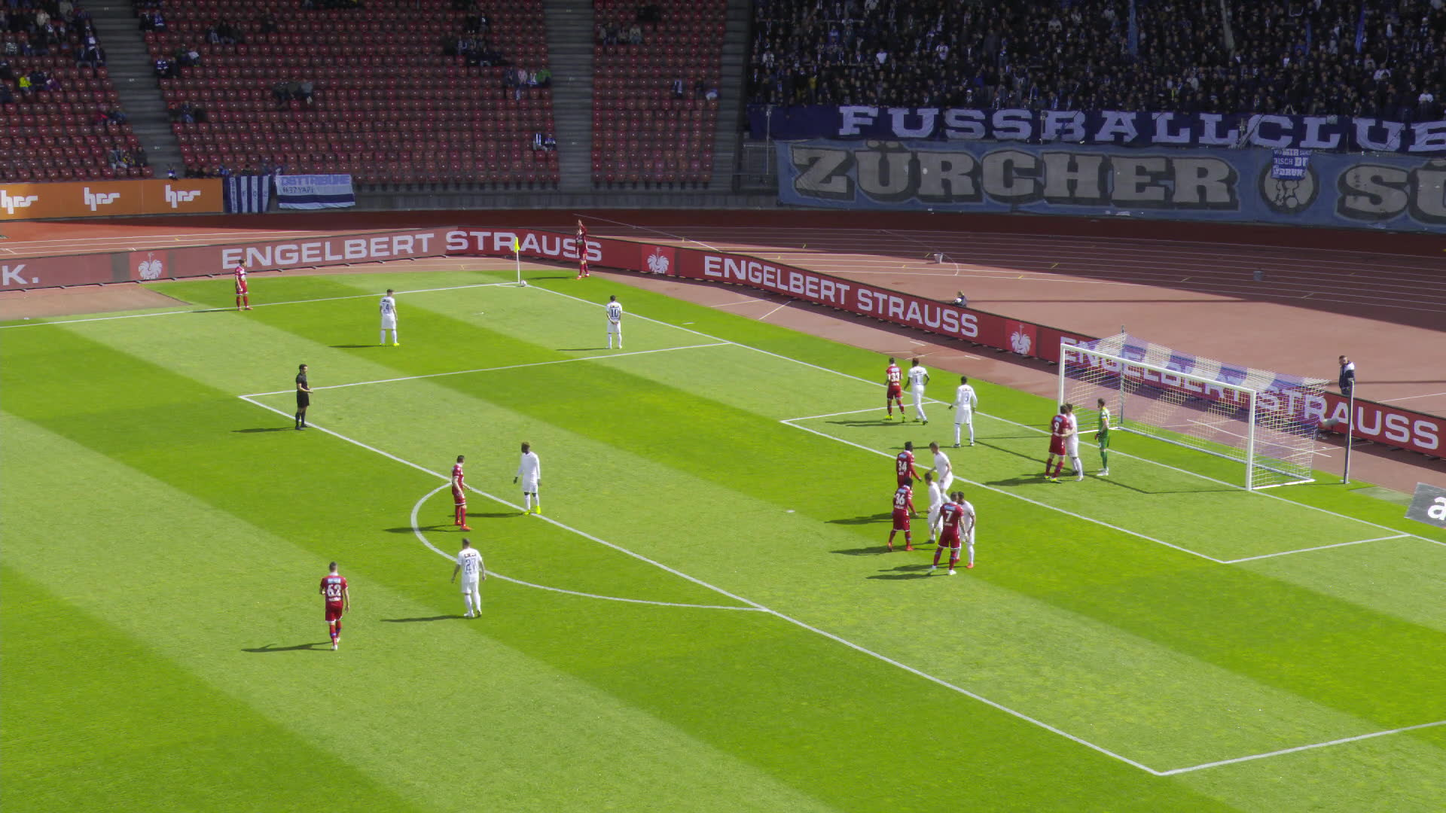ball: (517, 279, 526, 287)
player: (926, 492, 972, 575), (316, 559, 350, 648), (450, 539, 484, 620), (887, 478, 923, 552), (947, 375, 980, 448), (513, 441, 544, 516), (1040, 403, 1068, 483), (892, 442, 921, 519), (926, 438, 952, 514), (1060, 402, 1084, 481), (909, 360, 935, 424), (448, 453, 470, 528), (922, 473, 945, 543), (883, 358, 907, 423), (1094, 397, 1113, 477), (956, 491, 975, 568), (377, 288, 401, 346), (571, 220, 590, 280), (605, 294, 624, 349), (233, 257, 252, 312)
referee: (294, 363, 312, 430)
